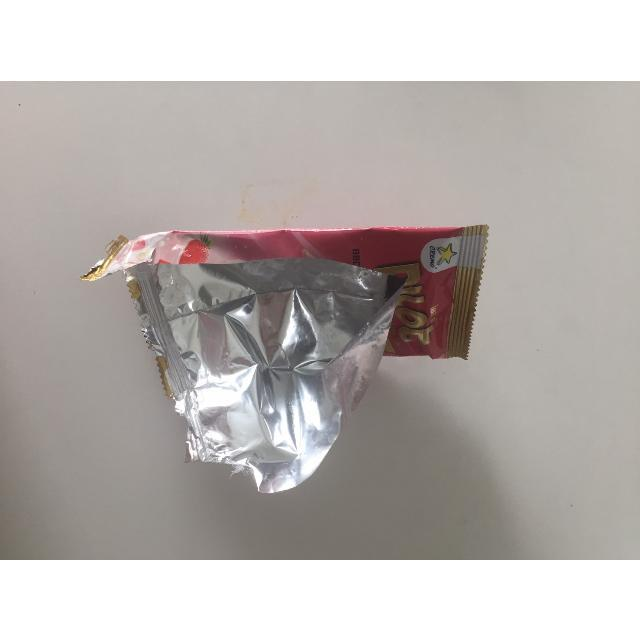Paquete de plastico: (62, 220, 495, 508)
